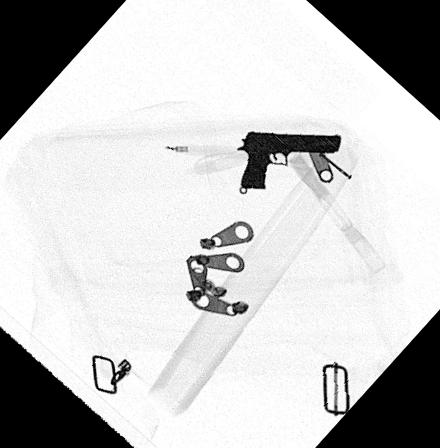Gun: (235, 130, 343, 189)
